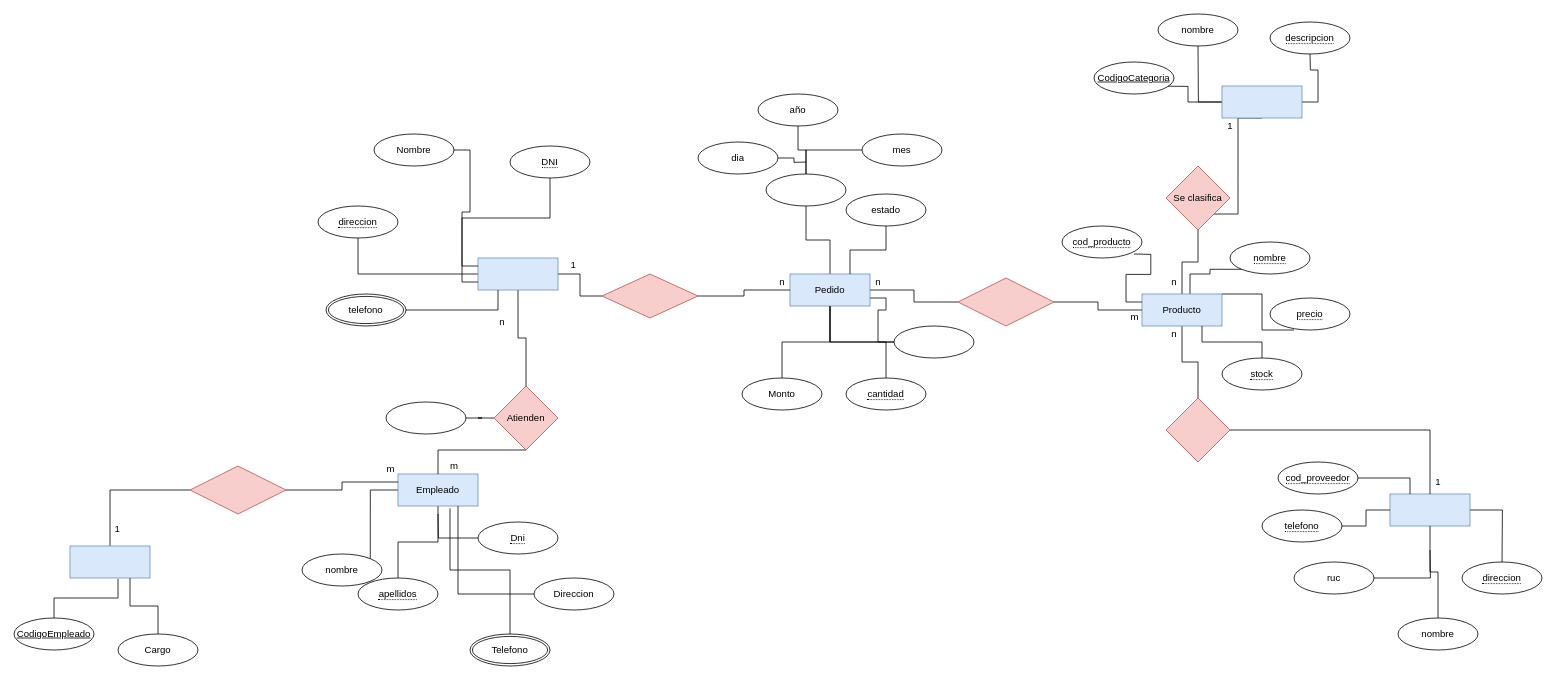
Image size: 1556x680. Some labels were removed from this diagram. The box of each missing label's shape, as (x1, y1, x2, y2) in pixels:
Categoria: (1221, 85, 1302, 118)
Cliente: (477, 257, 558, 290)
cod_cliente: (893, 325, 974, 358)
fecha: (765, 173, 846, 206)
fecha_hora: (385, 401, 466, 434)
Hace: (601, 273, 698, 318)
Pertenece: (189, 465, 286, 514)
provee: (1165, 397, 1230, 462)
proveedor: (1389, 493, 1470, 526)
Tiene: (957, 277, 1054, 326)
TipoEmpleado: (69, 545, 150, 578)
